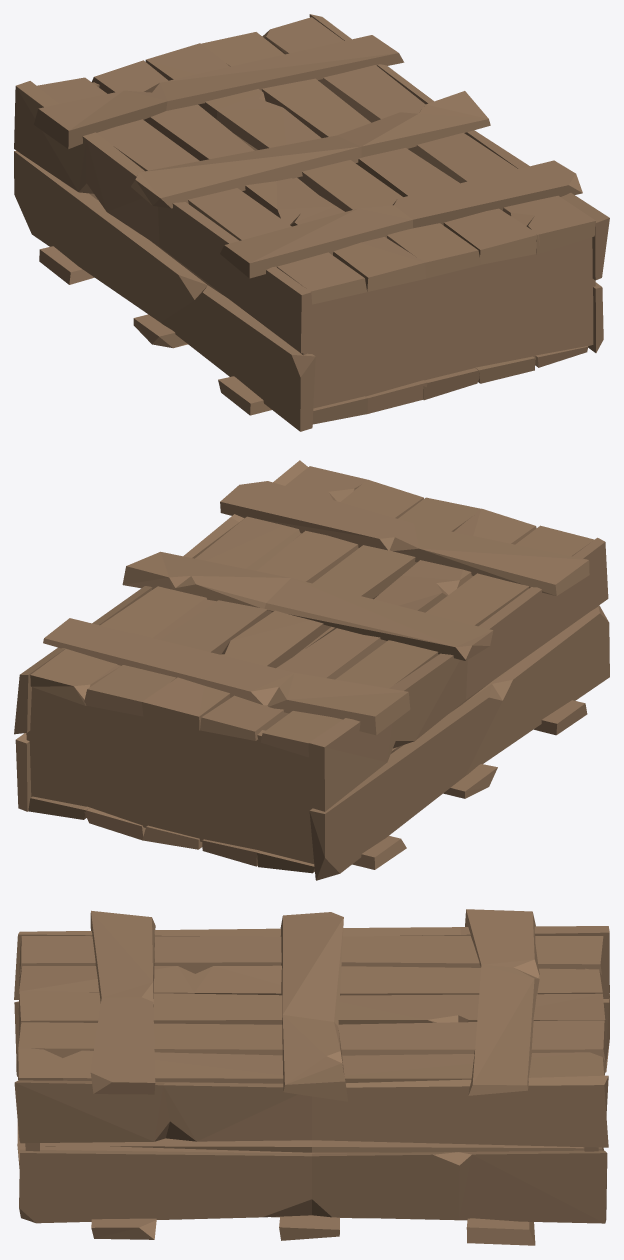
The model's file is Crate02.fbx.
3 renders of one model, top to bottom at view 1: azimuth 30°, elevation 25°; view 2: azimuth 150°, elevation 25°; view 3: azimuth 270°, elevation 25°, orthographic. The views are drawn at different scales.
Visible parts, largest first — view 1: Crate02Lid, Crate02; view 2: Crate02Lid, Crate02; view 3: Crate02Lid, Crate02.
Boxes of the visible parts, x1=… form: Crate02Lid: x1=33, y1=17, x2=595, y2=304; Crate02: x1=14, y1=14, x2=609, y2=431; Crate02Lid: x1=30, y1=466, x2=594, y2=757; Crate02: x1=14, y1=460, x2=609, y2=880; Crate02Lid: x1=16, y1=909, x2=606, y2=1101; Crate02: x1=14, y1=926, x2=609, y2=1245.
Bounding box in the file's own units: 1.93 × 0.8463 × 2.79.
